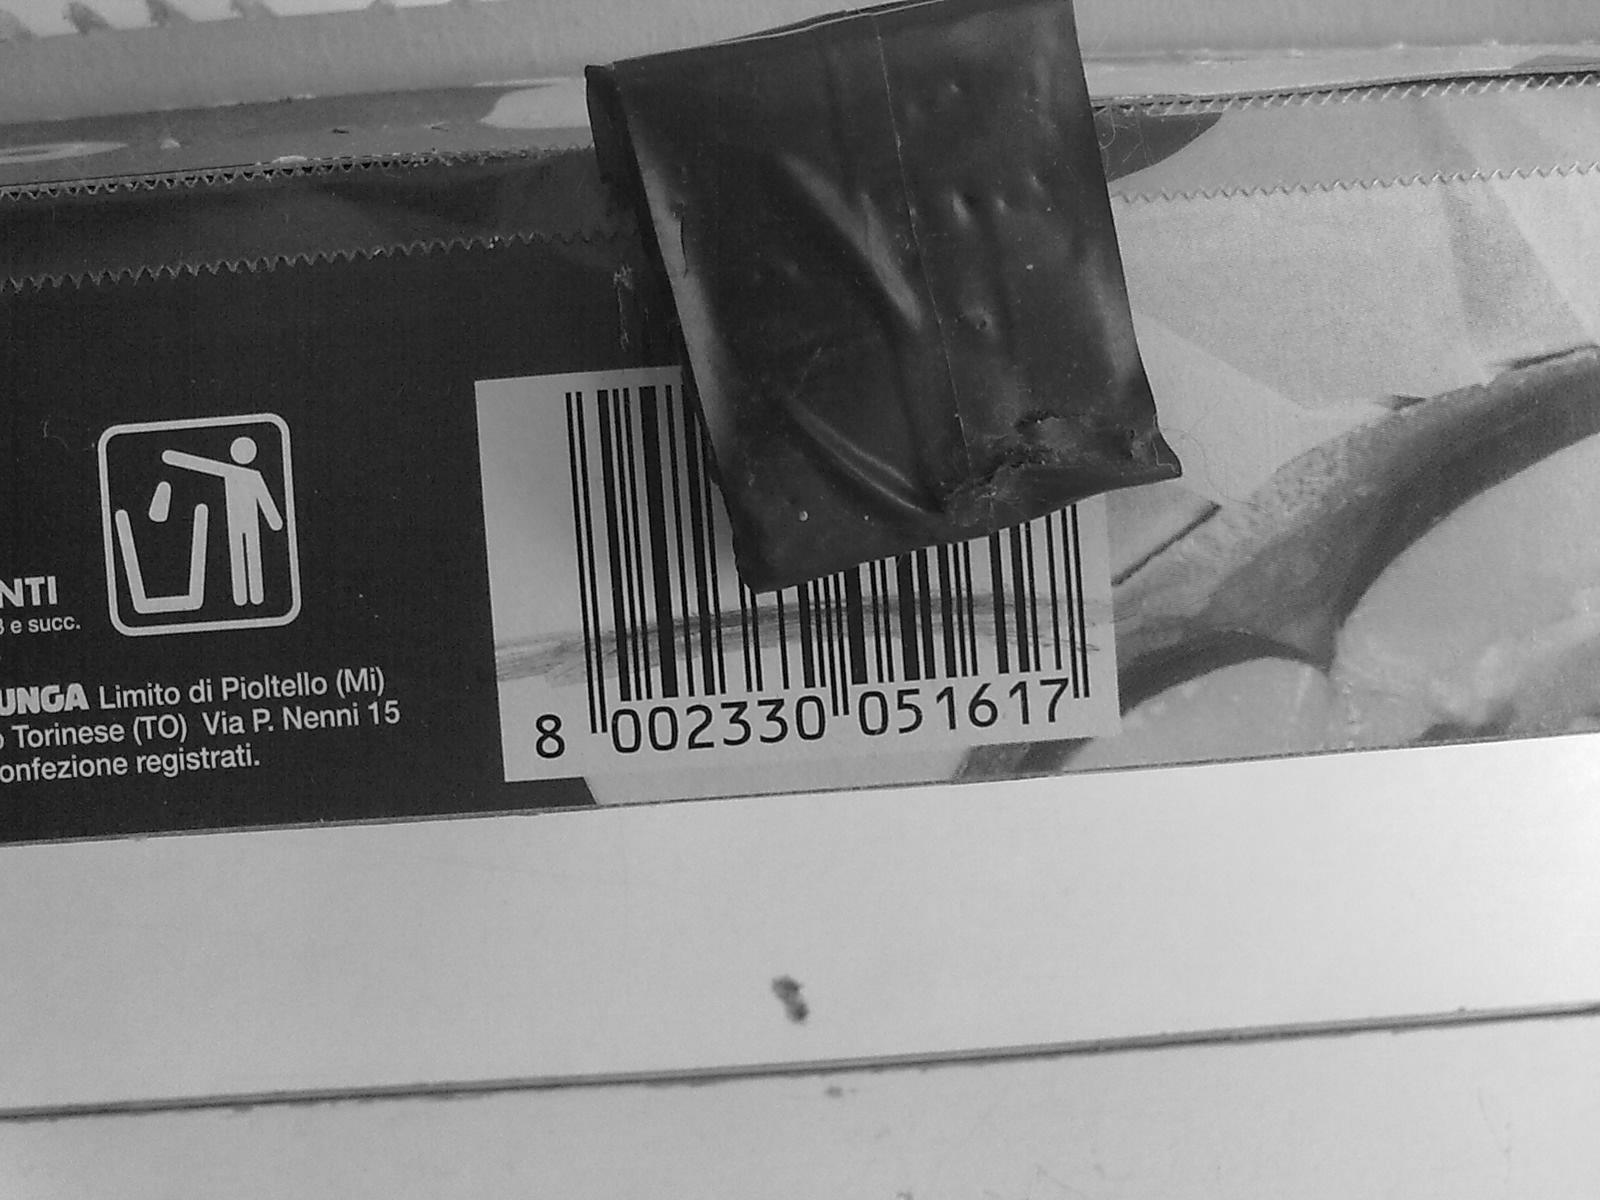Barcode: (442, 365, 1175, 704)
